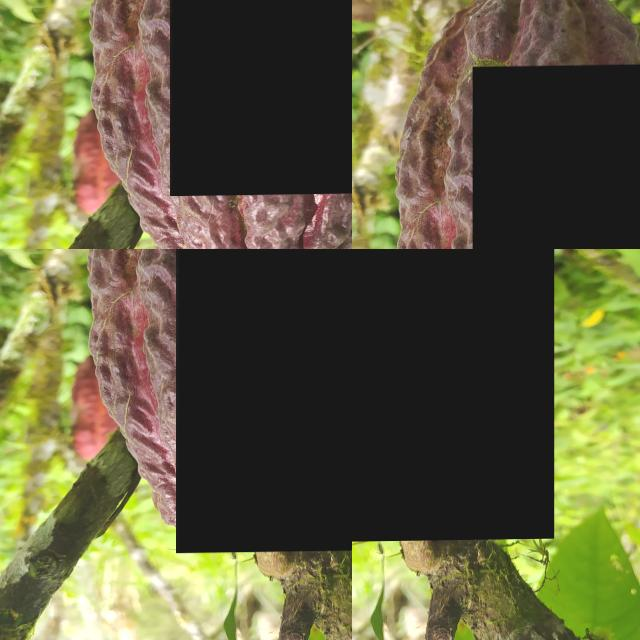Fitoftora: (472, 65, 640, 249)
Sana: (352, 249, 554, 543), (176, 249, 352, 553), (170, 0, 352, 196)
